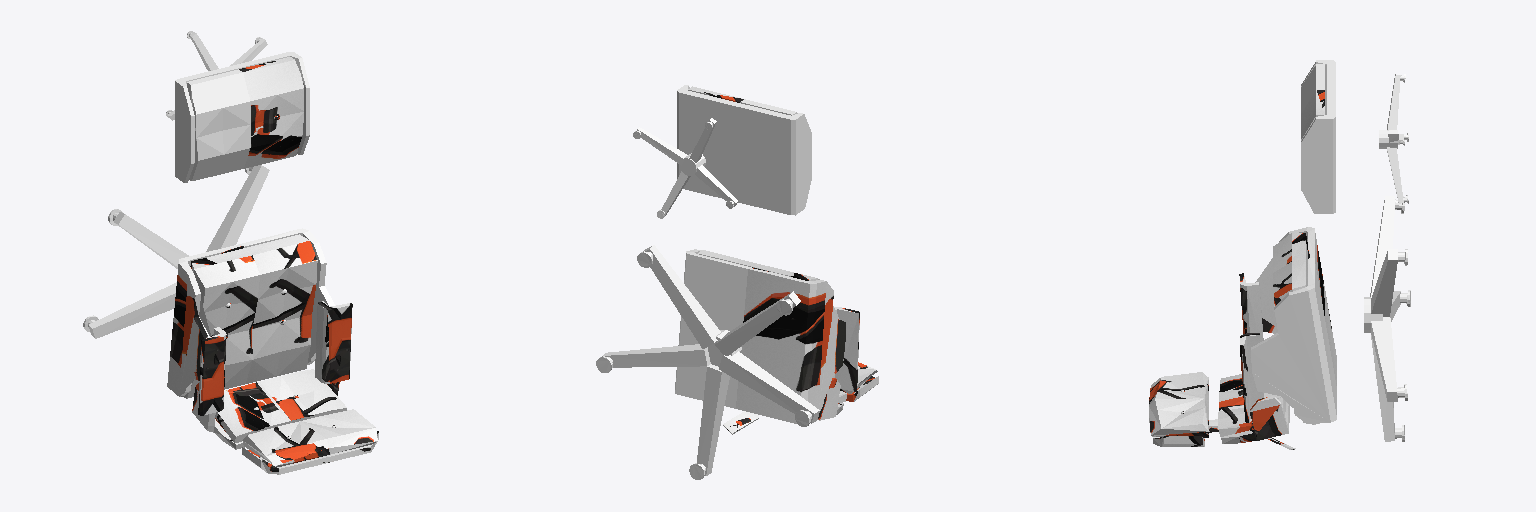
3 renders of one model, left to right at view 1: azimuth 30°, elevation 25°; view 2: azimuth 150°, elevation 25°; view 3: azimuth 270°, elevation 25°, orthographic.
Parts seen in each view (by area): view 1: Object.13, Object.20, Object.3, Object.1, Object.19, Object.11, Object.18, Object.15, Object.10, Object.4, Object.21, Object.16 (+7 smaller); view 2: Object.19, Object.4, Object.12, Object.2, Object.36, Object.49, Object.46, Object.42, Object.21, Object.40, Object.8, Object.55; view 3: Object.12, Object.2, Object.16, Object.19, Object.14, Object.10, Object.42, Object.36, Object.15, Object.18, Object.21, Object.13 (+6 smaller).
Part boxes in pixels (x1,y1,x2,y2): Object.13: (246,234,317,383); Object.20: (181,248,259,398); Object.3: (187,69,250,180); Object.1: (239,57,303,168); Object.19: (167,244,243,396); Object.11: (215,382,291,442); Object.18: (315,301,352,383); Object.15: (260,369,346,422); Object.10: (242,421,329,466); Object.4: (175,65,237,182); Object.21: (198,327,226,415); Object.16: (301,409,377,454); Object.19: (736,267,845,423); Object.4: (735,103,811,215); Object.12: (675,249,751,408); Object.2: (677,85,738,198); Object.36: (643,245,720,348); Object.49: (719,351,819,423); Object.46: (697,364,729,475); Object.42: (602,344,710,367); Object.21: (833,307,859,391); Object.40: (715,291,800,355); Object.8: (818,378,843,420); Object.55: (637,127,687,165); Object.12: (1251,258,1336,423); Object.2: (1301,90,1335,213); Object.16: (1149,398,1208,437); Object.19: (1255,227,1336,385); Object.14: (1221,396,1289,443); Object.10: (1149,372,1208,409); Object.42: (1371,317,1397,401); Object.36: (1371,249,1397,316); Object.15: (1218,393,1285,436); Object.18: (1240,333,1263,422); Object.21: (1239,273,1263,341); Object.13: (1273,259,1319,424).
Size of the model in its own units: 0.485 by 0.7764 by 0.5113.
6 materials, 1 textured.